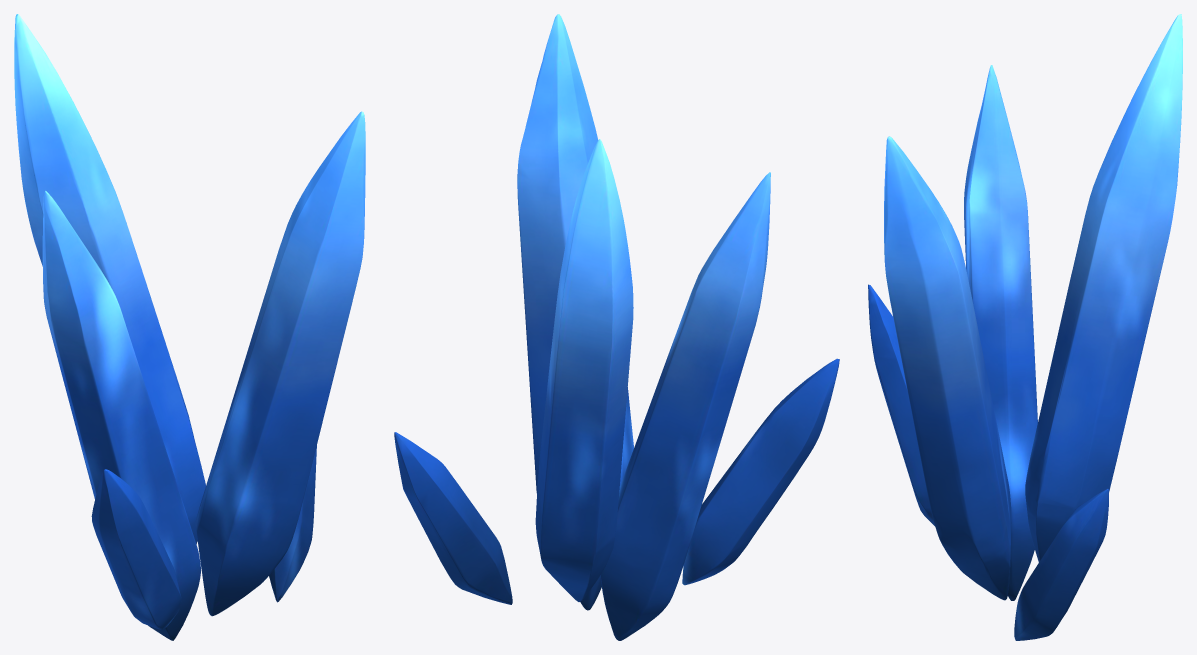
The model's file is odk_cluster_c.glb.
The picture shows the model from 3 angles, left to right: view 1: azimuth 30°, elevation 25°; view 2: azimuth 150°, elevation 25°; view 3: azimuth 270°, elevation 25°; orthographic projection. The views are drawn at different scales.
Visible parts, largest first — view 1: odk_cluster_c; view 2: odk_cluster_c; view 3: odk_cluster_c.
Part boxes in pixels (bbox=[...]): odk_cluster_c: bbox=[14, 14, 365, 640]; odk_cluster_c: bbox=[394, 14, 839, 640]; odk_cluster_c: bbox=[868, 14, 1182, 640].
Bounding box in the file's own units: 19.86 × 34.21 × 17.57.
1 material, 1 textured.
